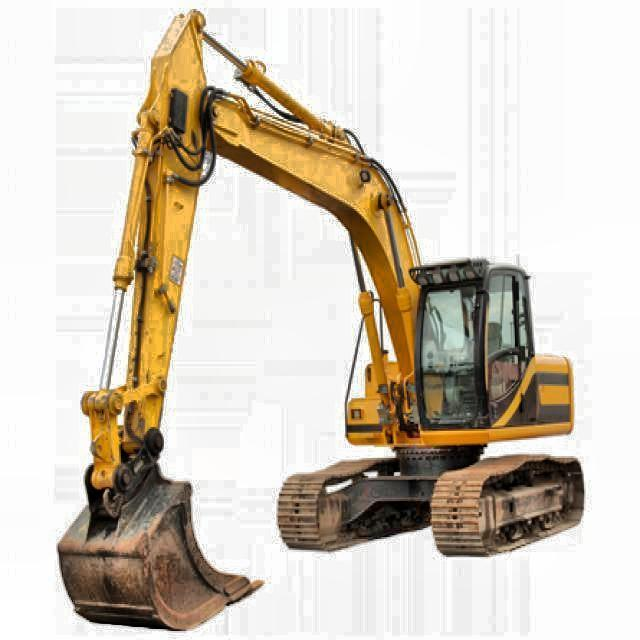excavator: (57, 10, 588, 630)
